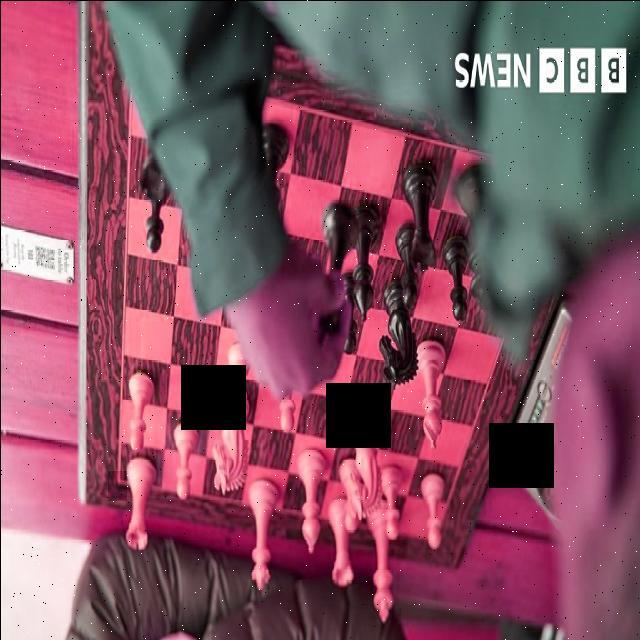chess-table-corners: (107, 470, 126, 500)
